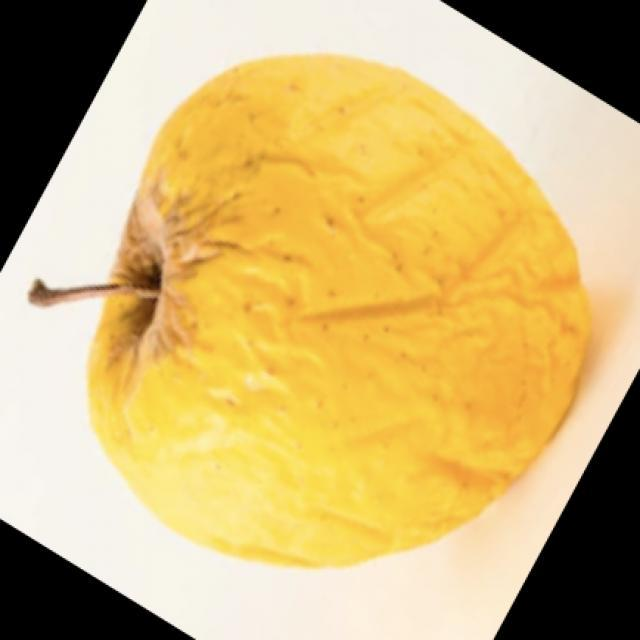Rotten: (82, 50, 595, 575)
